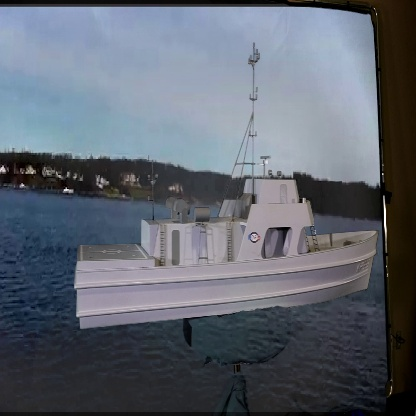YP689: (73, 41, 379, 333)
